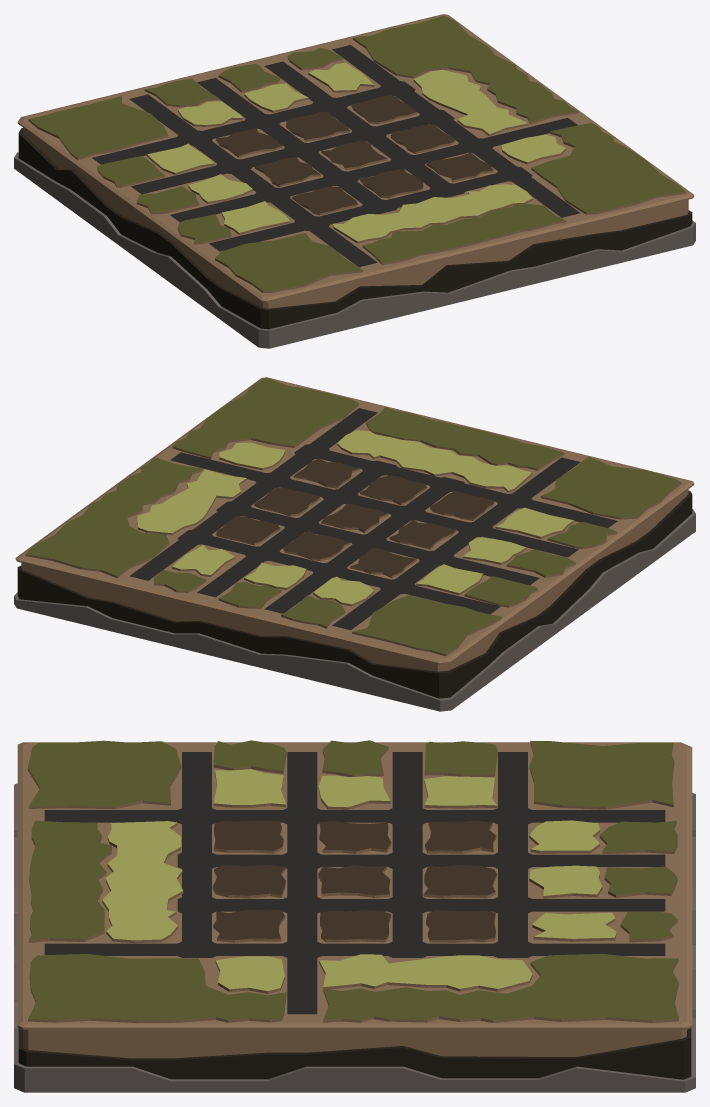
The model's file is Map0.fbx.
3 views of the same model, one above another, from view 1: azimuth 30°, elevation 25°; view 2: azimuth 150°, elevation 25°; view 3: azimuth 270°, elevation 25° (orthographic). The views are drawn at different scales.
Parts seen in each view (by area): view 1: Map0; view 2: Map0; view 3: Map0.
Boxes of the visible parts, x1,y1,x2,y2 form: Map0: [14, 14, 695, 348]; Map0: [14, 377, 695, 711]; Map0: [14, 740, 695, 1092].
Bounding box in the file's own units: 583 × 64.2 × 583.
